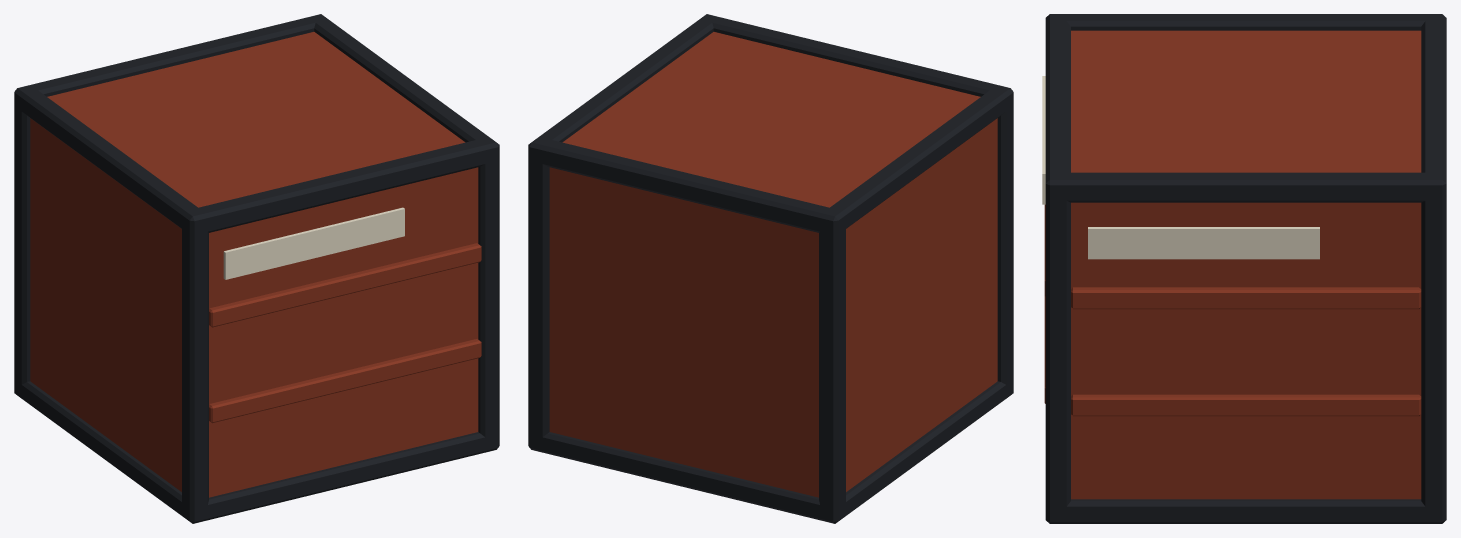
Rendered from crate.glb.
3 renders of one model, left to right at view 1: azimuth 30°, elevation 25°; view 2: azimuth 150°, elevation 25°; view 3: azimuth 270°, elevation 25°, orthographic. The views are drawn at different scales.
Parts seen in each view (by area): view 1: crate_mesh; view 2: crate_mesh; view 3: crate_mesh.
Boxes of the visible parts, <box> form: crate_mesh: <box>14,14,499,523</box>; crate_mesh: <box>528,14,1013,523</box>; crate_mesh: <box>1042,14,1446,523</box>.
Bounding box in the file's own units: 1.91 × 1.8 × 1.91.
